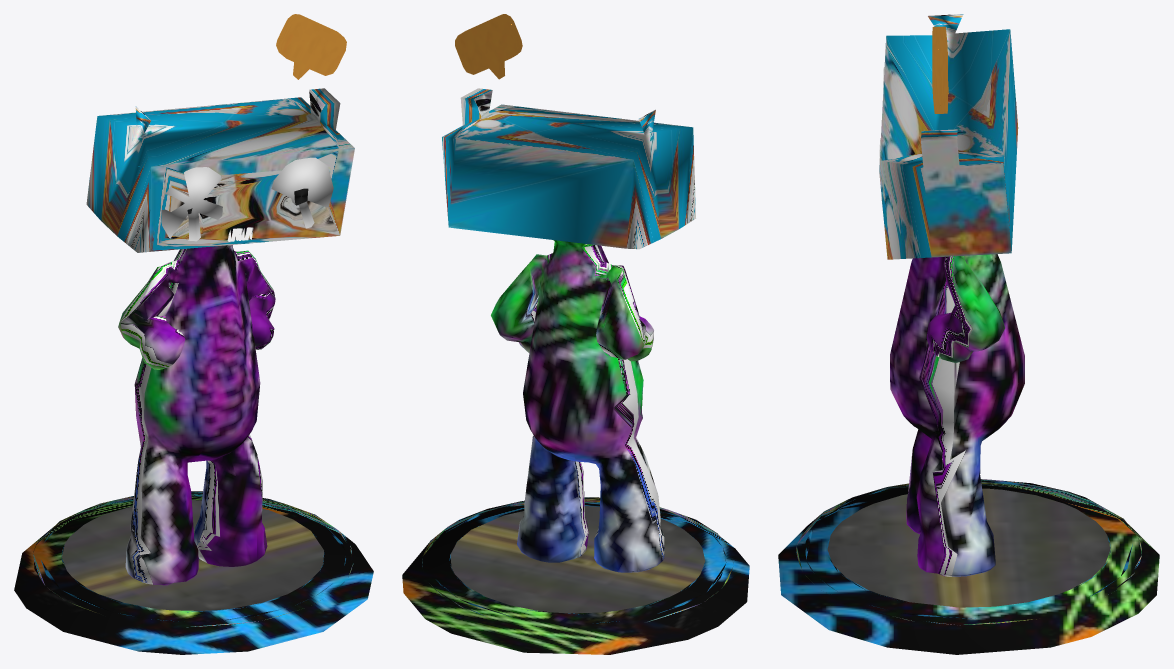
3 views of the same model, side by side, from view 1: azimuth 30°, elevation 25°; view 2: azimuth 150°, elevation 25°; view 3: azimuth 270°, elevation 25° (orthographic). The views are drawn at different scales.
Bounding box in the file's own units: 1.44 × 2.42 × 1.41.
Materials: 8 (5 with a texture image).
